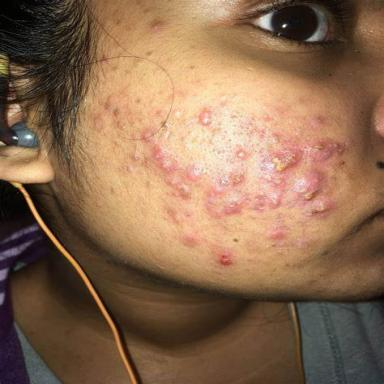acne: (152, 145, 203, 198), (260, 146, 302, 185), (206, 175, 240, 218), (291, 171, 325, 207), (305, 139, 347, 161), (253, 193, 281, 210), (304, 201, 333, 217), (266, 220, 286, 239), (216, 250, 233, 265), (308, 115, 327, 128), (199, 108, 212, 126), (181, 235, 198, 247), (142, 130, 154, 142), (232, 173, 244, 185), (236, 150, 248, 160), (153, 22, 163, 31), (144, 155, 150, 164), (132, 155, 137, 161)
